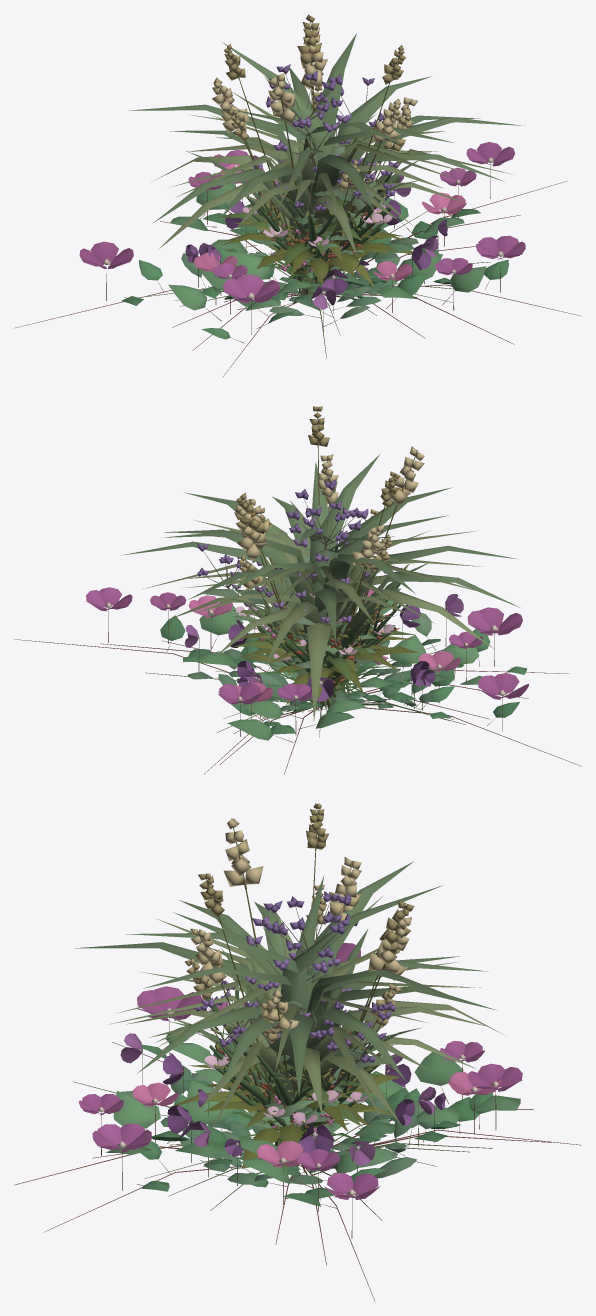
File: coastal.glb
3 renders of one model, top to bottom at view 1: azimuth 30°, elevation 25°; view 2: azimuth 150°, elevation 25°; view 3: azimuth 270°, elevation 25°, orthographic. The views are drawn at different scales.
Parts seen in each view (by area): view 1: dune_marram_1_detail, beach_morning_glory_2_detail, beach_morning_glory_1_detail, dune_marram_0_detail, dune_marram_2_detail, beach_morning_glory_0_detail, beach_pea_1_detail, beach_pea_0_detail, sand_sedge_2_detail, sand_sedge_0_detail, sea_lavender_1_detail, sea_lavender_2_detail (+7 smaller); view 2: dune_marram_1_detail, dune_marram_0_detail, beach_morning_glory_2_detail, beach_morning_glory_1_detail, dune_marram_2_detail, beach_morning_glory_0_detail, beach_pea_1_detail, beach_pea_0_detail, sea_lavender_2_detail, sea_lavender_0_detail, sand_sedge_2_detail, sea_lavender_1_detail (+7 smaller); view 3: dune_marram_1_detail, beach_morning_glory_2_detail, beach_morning_glory_1_detail, dune_marram_2_detail, dune_marram_0_detail, beach_morning_glory_0_detail, beach_pea_1_detail, beach_pea_0_detail, sea_lavender_2_detail, sea_lavender_1_detail, red_glasswort_2_detail, sand_sedge_2_detail (+8 smaller).
Part boxes in pixels (left/top/right/bottom): dune_marram_1_detail: left=129, top=27, right=524, bottom=295; beach_morning_glory_2_detail: left=160, top=167, right=520, bottom=350; beach_morning_glory_1_detail: left=14, top=142, right=581, bottom=377; dune_marram_0_detail: left=156, top=86, right=465, bottom=299; dune_marram_2_detail: left=168, top=14, right=511, bottom=298; beach_morning_glory_0_detail: left=172, top=164, right=475, bottom=338; beach_pea_1_detail: left=174, top=197, right=452, bottom=335; beach_pea_0_detail: left=180, top=175, right=453, bottom=358; sand_sedge_2_detail: left=221, top=220, right=410, bottom=294; sand_sedge_0_detail: left=235, top=214, right=412, bottom=294; sea_lavender_1_detail: left=266, top=71, right=399, bottom=260; sea_lavender_2_detail: left=269, top=64, right=395, bottom=262; dune_marram_1_detail: left=122, top=446, right=520, bottom=711; dune_marram_0_detail: left=168, top=507, right=494, bottom=721; beach_morning_glory_2_detail: left=100, top=592, right=528, bottom=774; beach_morning_glory_1_detail: left=14, top=557, right=581, bottom=774; dune_marram_2_detail: left=142, top=406, right=483, bottom=712; beach_morning_glory_0_detail: left=162, top=589, right=489, bottom=764; beach_pea_1_detail: left=216, top=604, right=449, bottom=737; beach_pea_0_detail: left=145, top=594, right=494, bottom=733; sea_lavender_2_detail: left=197, top=501, right=374, bottom=665; sea_lavender_0_detail: left=255, top=507, right=368, bottom=670; sand_sedge_2_detail: left=227, top=607, right=412, bottom=705; sea_lavender_1_detail: left=230, top=479, right=401, bottom=674; dune_marram_1_detail: left=75, top=818, right=496, bottom=1142; beach_morning_glory_2_detail: left=14, top=1001, right=533, bottom=1265; beach_morning_glory_1_detail: left=44, top=943, right=581, bottom=1300; dune_marram_2_detail: left=108, top=803, right=481, bottom=1165; dune_marram_0_detail: left=127, top=884, right=505, bottom=1173; beach_morning_glory_0_detail: left=92, top=1046, right=550, bottom=1244; beach_pea_1_detail: left=144, top=1049, right=436, bottom=1200; beach_pea_0_detail: left=73, top=1033, right=469, bottom=1220; sea_lavender_2_detail: left=189, top=891, right=395, bottom=1112; sea_lavender_1_detail: left=214, top=901, right=386, bottom=1125; red_glasswort_2_detail: left=205, top=978, right=380, bottom=1125; sand_sedge_2_detail: left=167, top=1065, right=396, bottom=1167.
Size of the model in its own units: 1.97 by 0.8785 by 1.44.
